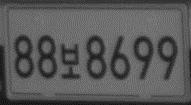6: (110, 35, 131, 80)
8: (84, 34, 107, 79), (37, 35, 58, 79), (14, 34, 34, 79)
9: (132, 34, 154, 81), (156, 34, 178, 81)
보: (59, 41, 81, 82)
